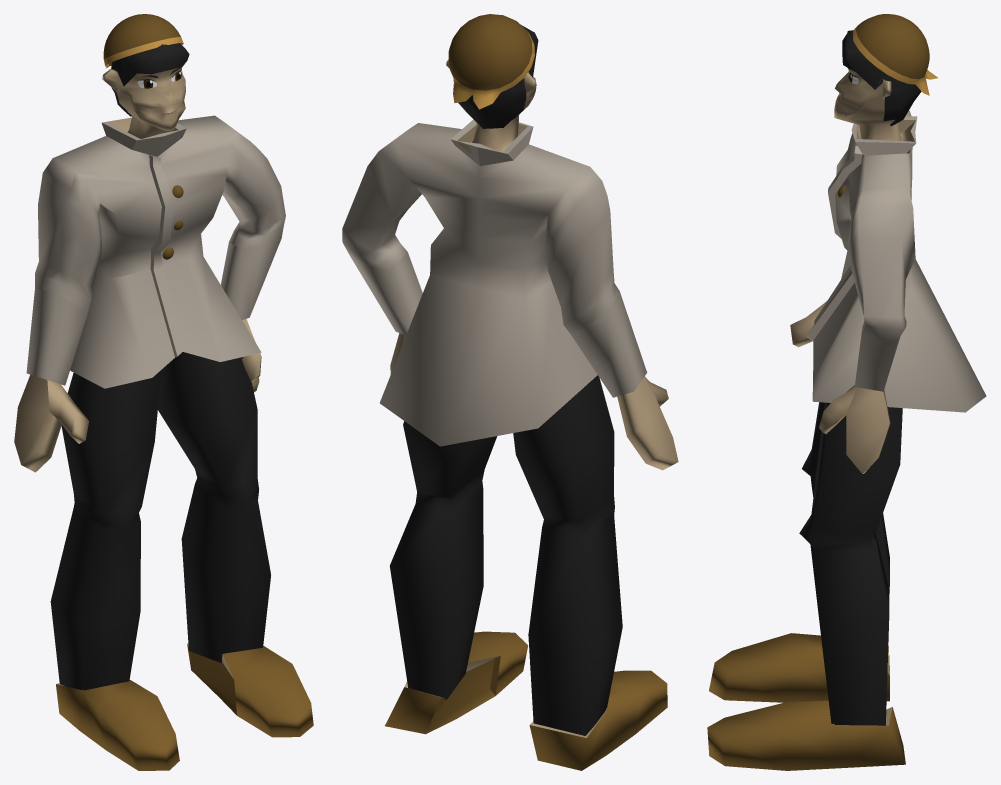
File: Tumenggung Baurekhsa.fbx
3 views of the same model, side by side, from view 1: azimuth 30°, elevation 25°; view 2: azimuth 150°, elevation 25°; view 3: azimuth 270°, elevation 25° (orthographic). The views are drawn at different scales.
Parts seen in each view (by area): view 1: pSphere4; view 2: pSphere4; view 3: pSphere4.
Boxes of the visible parts, x1,y1,x2,y2 form: pSphere4: [14, 14, 313, 770]; pSphere4: [342, 14, 678, 770]; pSphere4: [707, 14, 986, 770].
Size of the model in its own units: 4.92 by 11.35 by 4.06.
